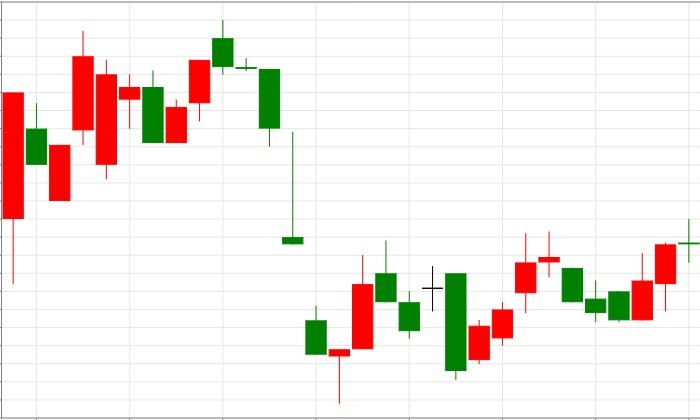bullish_engulfing_rise: (538, 230, 653, 322)
evening_star_fall: (446, 231, 583, 381)
